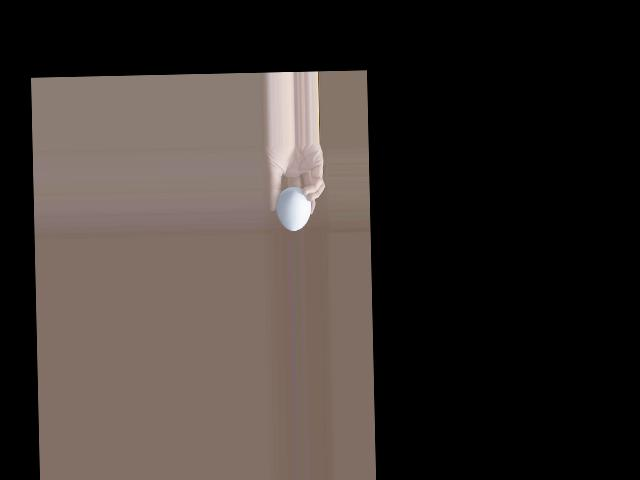egg: (276, 186, 312, 231)
